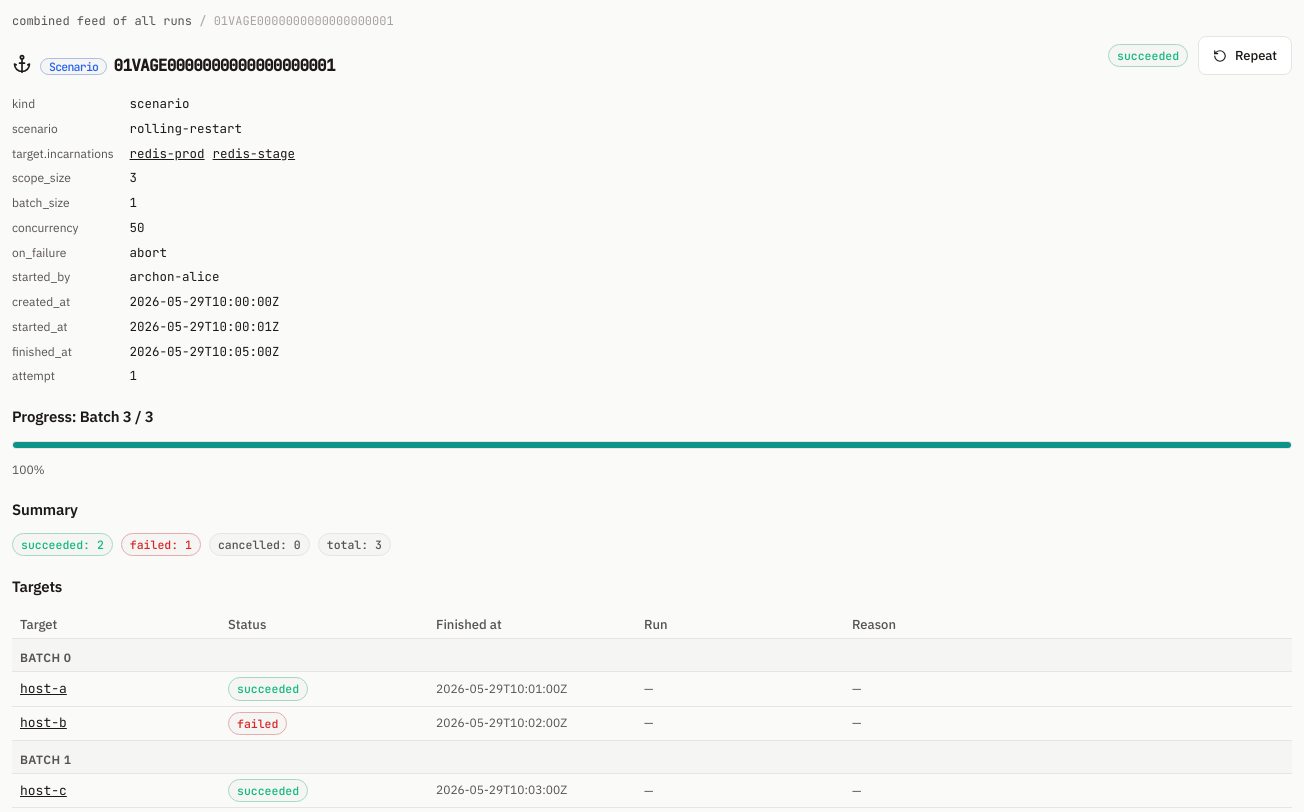
Test case: VoyageDetail › click "failed" → only failed targets visible
This screenshot has width=1304, height=812.
Expected: the element with test id "voyage-summary-counts" is shown, [12,533,391,556]
Click the element showing "failed: 1".
click(161, 545)  # box [121,533,201,556]
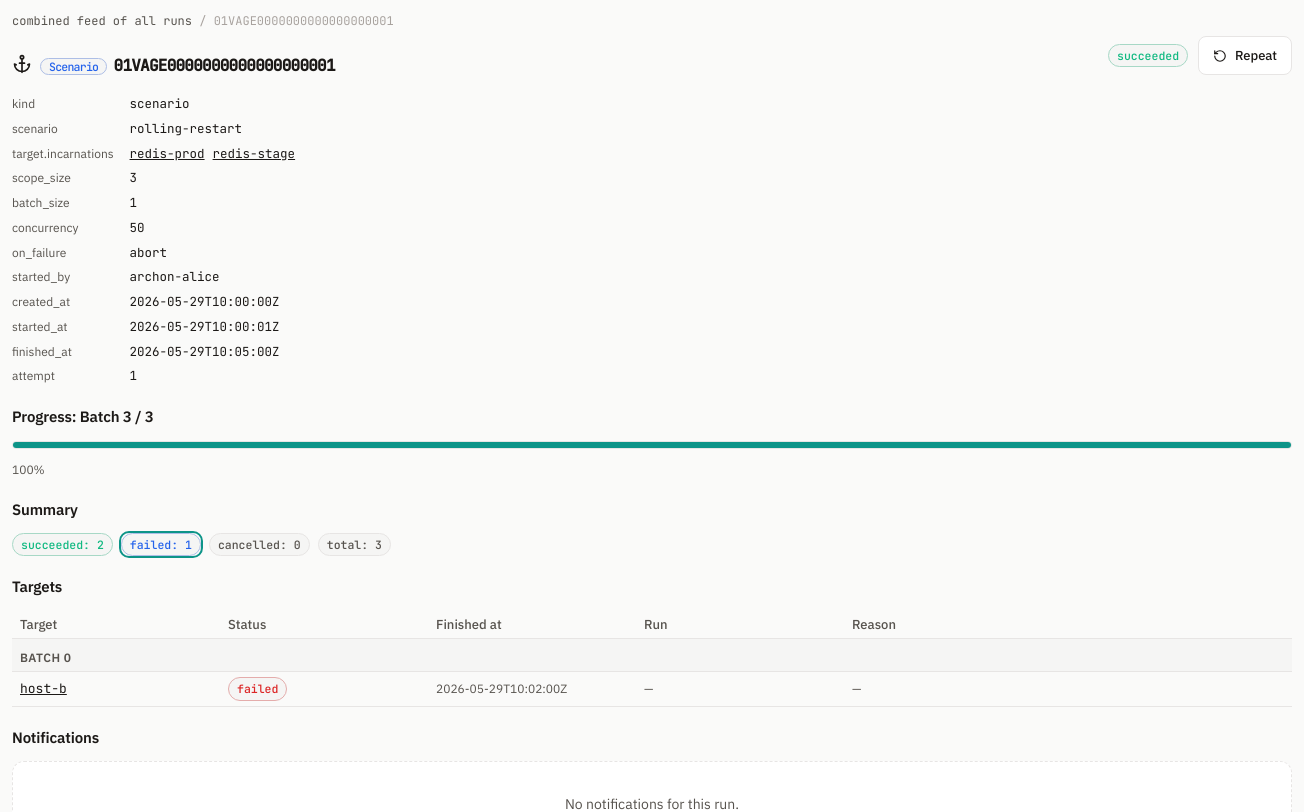
Expected: the link "host-b" is shown, [20,680,67,697]
Expected: the link "host-a" is gone
